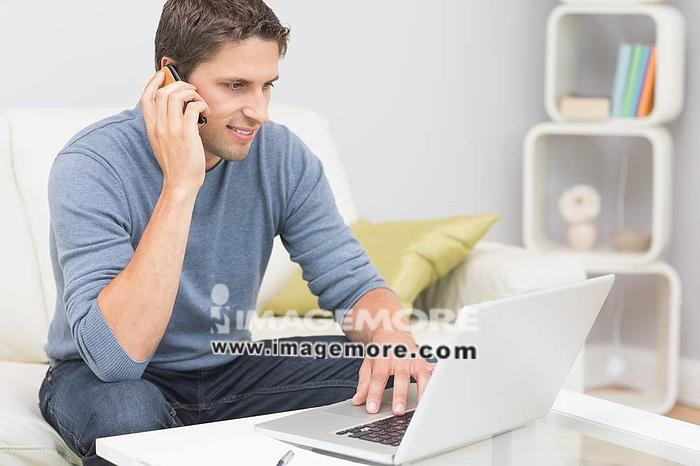talk: (140, 53, 280, 200)
